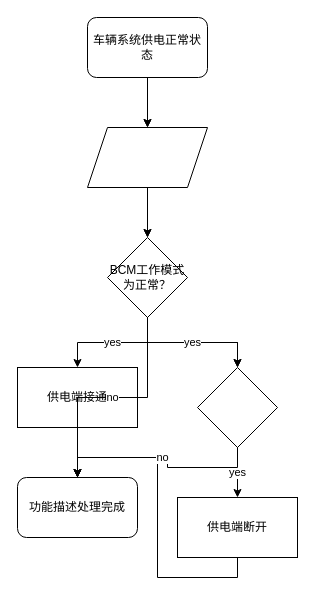
Some shapes in this 315 by 603 pixel diagram are drawn without their labels. The box of each missing label's shape, as (x1, y1, x2, y2) in pixels:
BCM进入休眠省电模式？: (196, 366, 278, 448)
输入：车辆信号: (86, 126, 208, 188)
